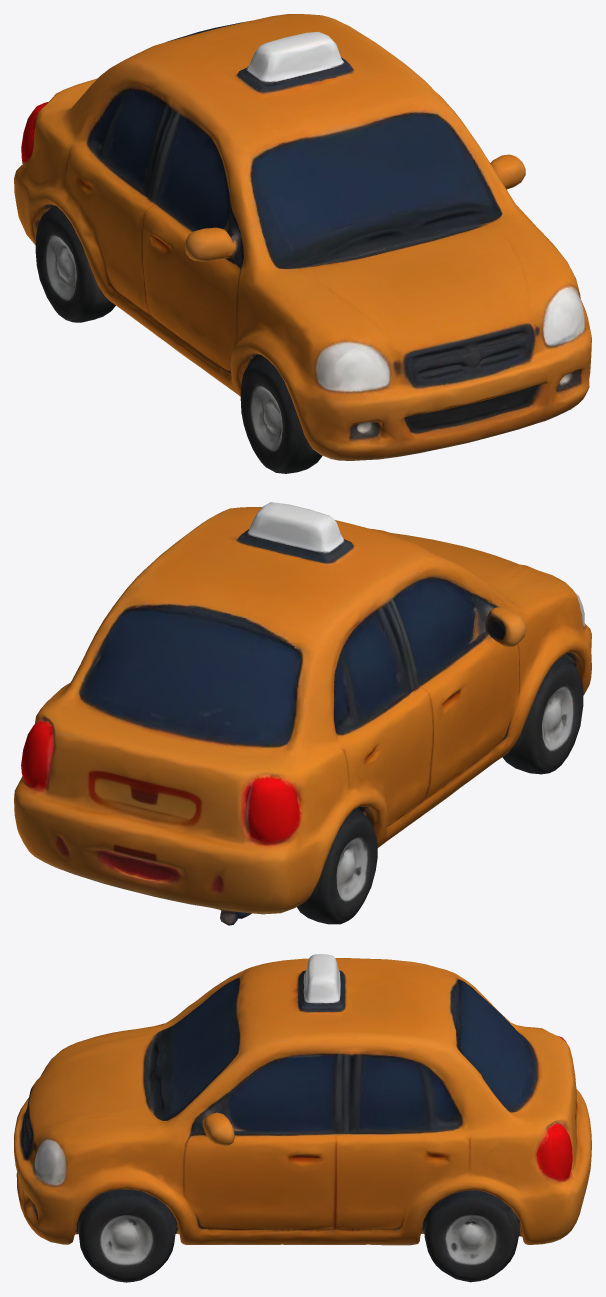
Rendered from bb_taxi.glb.
3 renders of one model, top to bottom at view 1: azimuth 30°, elevation 25°; view 2: azimuth 150°, elevation 25°; view 3: azimuth 270°, elevation 25°, orthographic. The views are drawn at different scales.
Size of the model in its own units: 0.5614 by 0.5002 by 1.
Materials: 1 (1 with a texture image).
